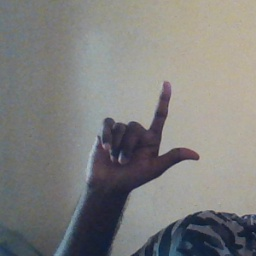L: (83, 78, 202, 192)
